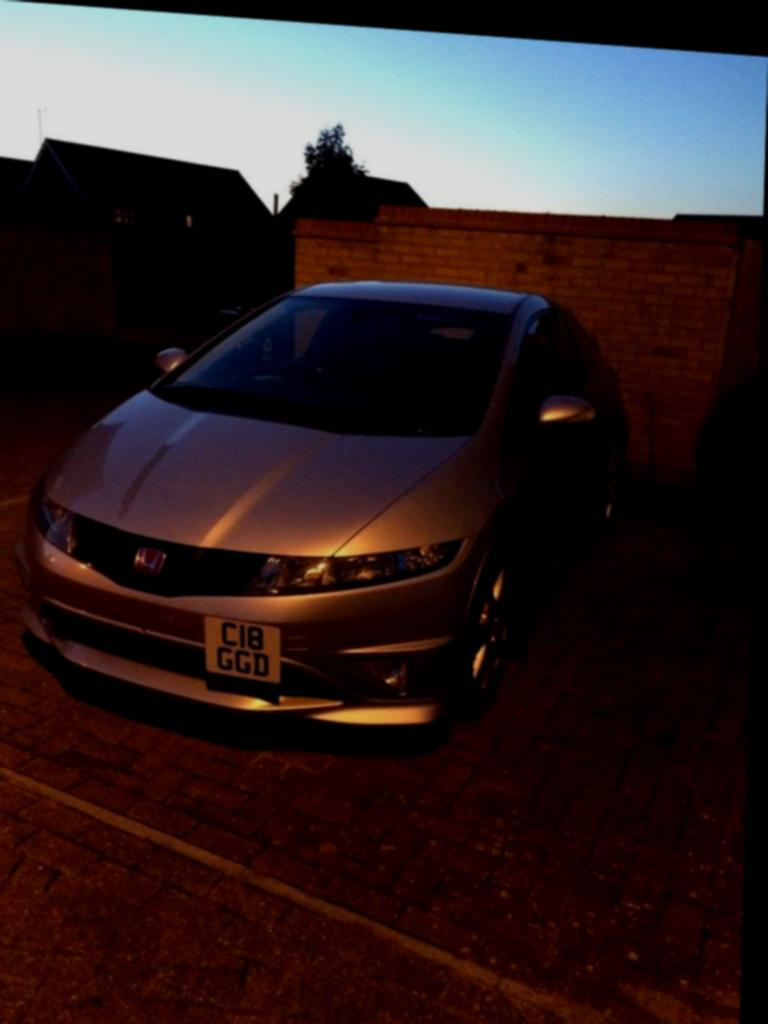License_Plate: (193, 610, 292, 706)
